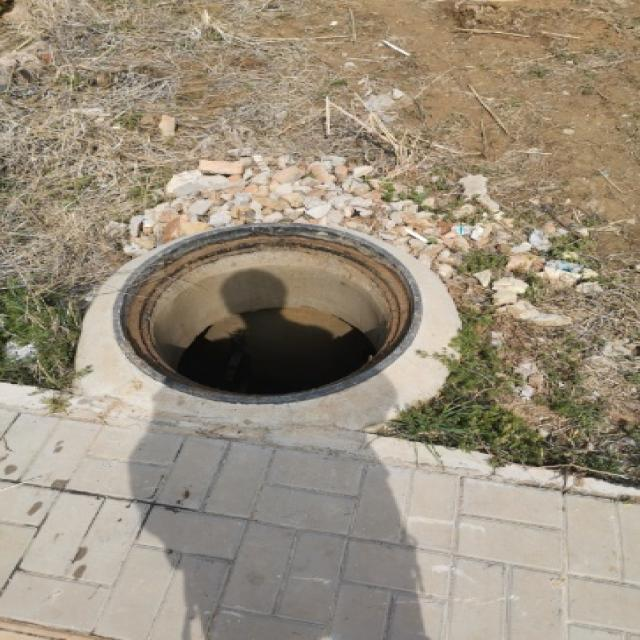Faulty: (101, 214, 445, 423)
